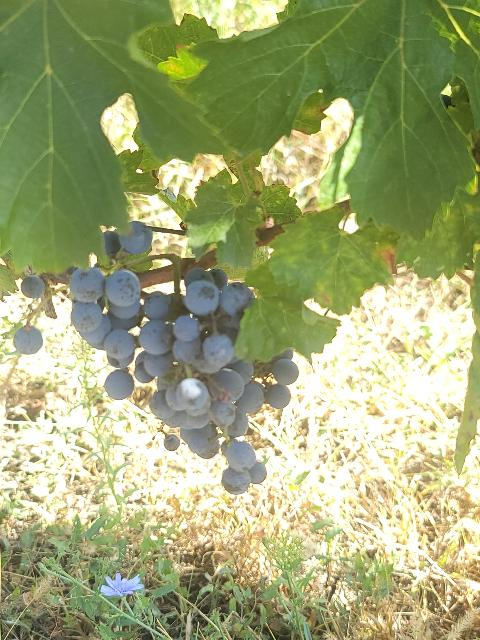grapes: (69, 222, 299, 494)
